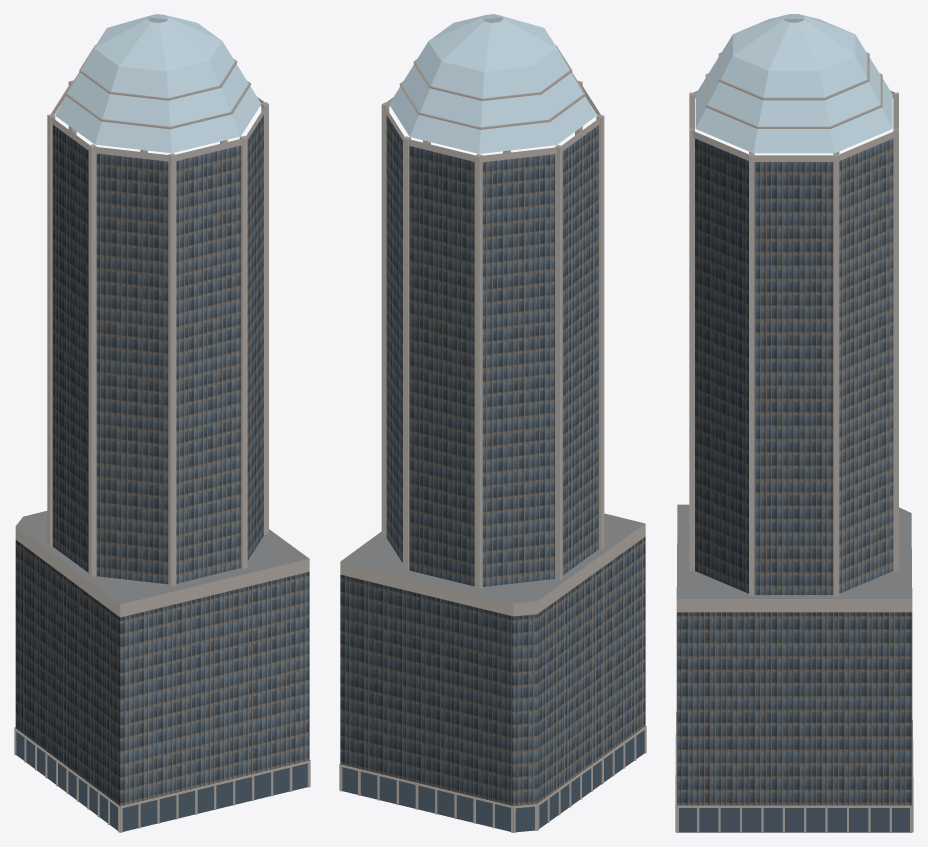
File: madison_383.glb
3 views of the same model, side by side, from view 1: azimuth 30°, elevation 25°; view 2: azimuth 150°, elevation 25°; view 3: azimuth 270°, elevation 25° (orthographic). The views are drawn at different scales.
Visible parts, largest first — view 1: madison_383; view 2: madison_383; view 3: madison_383.
Part boxes in pixels (x1,y1,x2,y2): madison_383: [14, 14, 310, 832]; madison_383: [339, 14, 646, 832]; madison_383: [675, 14, 913, 832].
Size of the model in its own units: 61.5 by 230 by 64.81.
Materials: 2 (2 with a texture image).
